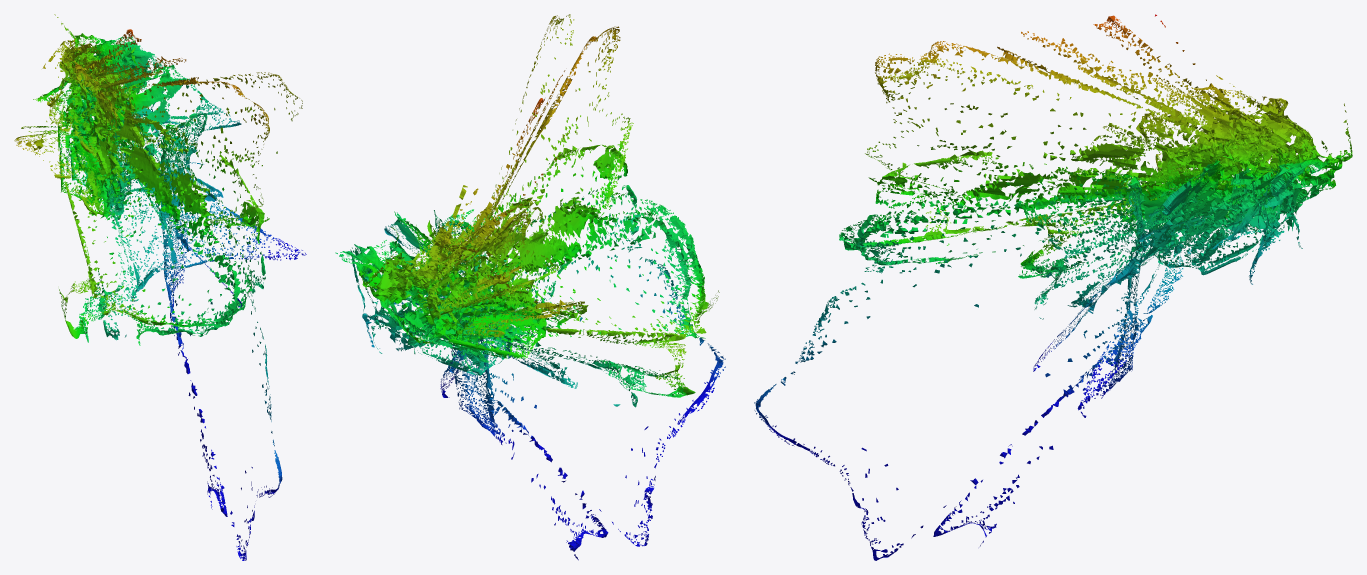
3 renders of one model, left to right at view 1: azimuth 30°, elevation 25°; view 2: azimuth 150°, elevation 25°; view 3: azimuth 270°, elevation 25°, orthographic. The views are drawn at different scales.
Visible parts, largest first — view 1: geometry_0; view 2: geometry_0; view 3: geometry_0.
Boxes of the visible parts, x1=… form: geometry_0: x1=14, y1=14, x2=306, y2=560; geometry_0: x1=335, y1=14, x2=725, y2=560; geometry_0: x1=754, y1=14, x2=1352, y2=560.
Size of the model in its own units: 1.1 by 2.03 by 2.05.
